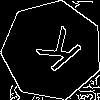K: (27, 25, 85, 80)
